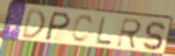C: (70, 13, 95, 44)
D: (20, 8, 47, 40)
L: (94, 16, 113, 46)
P: (43, 11, 73, 43)
R: (115, 17, 143, 50)
S: (141, 21, 166, 52)
